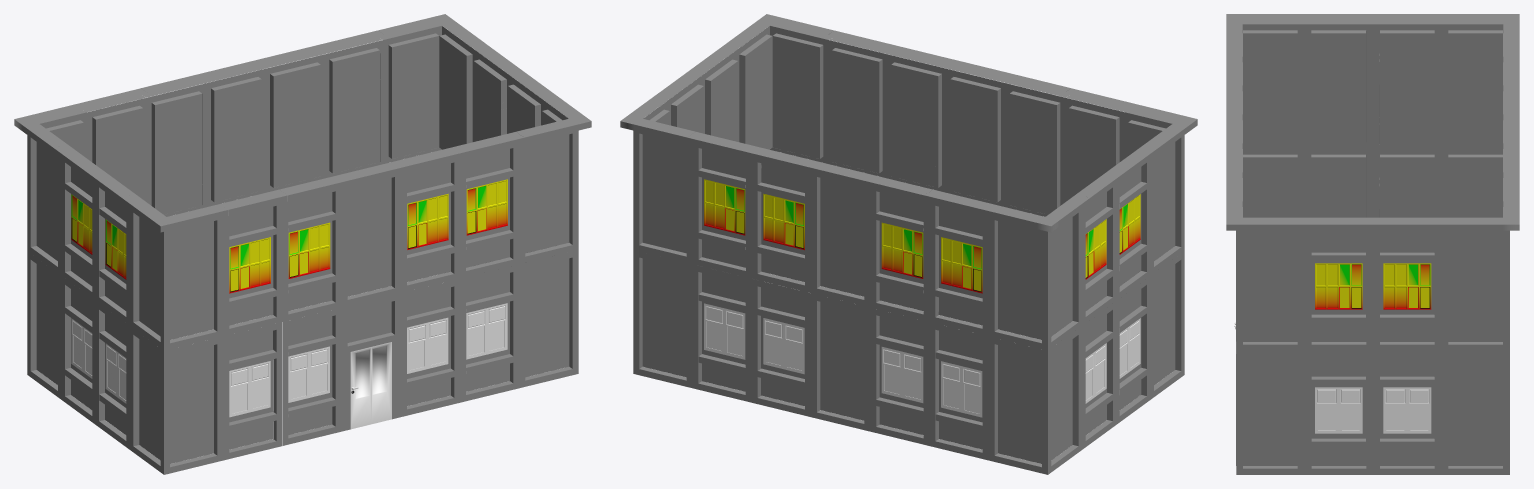
Rendered from House_8x14.fbx.
The picture shows the model from 3 angles, left to right: view 1: azimuth 30°, elevation 25°; view 2: azimuth 150°, elevation 25°; view 3: azimuth 270°, elevation 25°; orthographic projection.
Visible parts, largest first — view 1: Object168, Object109, Object112, finestra_v3_lp003, Object111, finestra_v3_lp009, Object115; view 2: Object109, Object168, Object112, finestra_v3_lp006, Object111, finestra_v3_lp009; view 3: Object111, Object112, finestra_v3_lp012, Object168, Object109.
Part boxes in pixels (x1=…): Object168: x1=121, y1=92, x2=591, y2=474; Object109: x1=14, y1=14, x2=483, y2=216; Object112: x1=27, y1=135, x2=163, y2=474; finestra_v3_lp003: x1=229, y1=179, x2=507, y2=417; Object111: x1=439, y1=26, x2=568, y2=149; finestra_v3_lp009: x1=71, y1=194, x2=126, y2=403; Object115: x1=350, y1=342, x2=391, y2=429; Object109: x1=620, y1=92, x2=1090, y2=474; Object168: x1=728, y1=14, x2=1197, y2=314; Object112: x1=1048, y1=135, x2=1184, y2=474; finestra_v3_lp006: x1=704, y1=179, x2=982, y2=417; Object111: x1=643, y1=26, x2=772, y2=271; finestra_v3_lp009: x1=1085, y1=194, x2=1140, y2=403; Object111: x1=1236, y1=217, x2=1509, y2=474; Object112: x1=1242, y1=14, x2=1503, y2=217; finestra_v3_lp012: x1=1315, y1=263, x2=1431, y2=433; Object168: x1=1226, y1=14, x2=1304, y2=465; Object109: x1=1441, y1=14, x2=1519, y2=230.
Bounding box in the file's own units: 14554 × 8200 × 8572.
